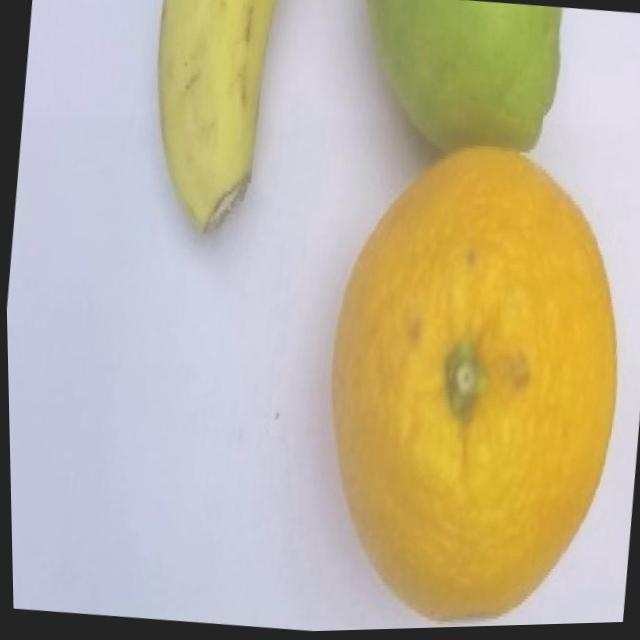Banana: (137, 0, 285, 245)
Orange: (298, 131, 640, 633)
